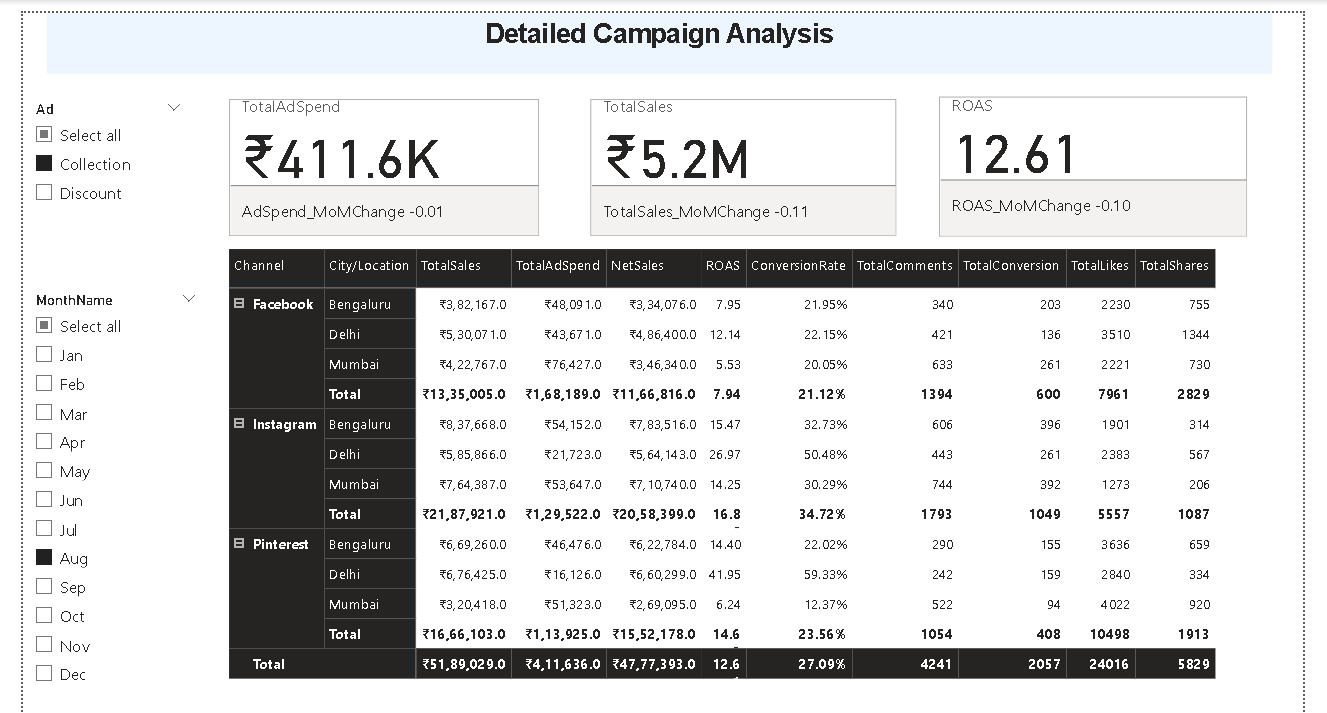

What the dashboard file says about the page in this screenshot:
{"tool":"powerbi","page":{"name":"Detailed Campaign Analysis","canvas":[1280,720],"ordinal":2},"visuals":[{"type":"pivotTable","fields":{"Rows":["Marketing Campaign - data (2).Channel","Marketing Campaign - data (2).City/Location"],"Values":["A_Measures.TotalSales","A_Measures.TotalAdSpend","A_Measures.NetSales","A_Measures.ROAS","A_Measures.ConversionRate","A_Measures.TotalComments","A_Measures.TotalConversion","A_Measures.TotalLikes","A_Measures.TotalShares"]},"box":[201.1,231.4,1048.3,473.4],"z":0},{"type":"slicer","fields":{"Values":["Calender.MonthName"]},"box":[0,273.4,184.8,431.6],"z":1000},{"type":"slicer","fields":{"Values":["Marketing Campaign - data (2).Ad"]},"box":[0,82.3,169.6,170.9],"z":2000},{"type":"cardVisual","fields":{"Data":["A_Measures.TotalAdSpend"]},"box":[201.1,81.9,320.4,147.7],"z":3000},{"type":"cardVisual","fields":{"Data":["A_Measures.TotalSales"]},"box":[562.4,81.9,316.8,147.7],"z":4000},{"type":"cardVisual","fields":{"Data":["A_Measures.ROAS"]},"box":[930.8,81.9,318.6,149.5],"z":5000},{"type":"textbox","box":[24.1,0,1225.3,60.8],"z":6000}]}

Visuals, with their boxes on the page's 1280x720 design canvas (x1, y1, x2, y2). These are canvas units, not pixel positions in the 1327x713 screenshot, which may show the page scaled, cropped or inside an application window:
pivotTable - Marketing Campaign - data (2).Channel x Marketing Campaign - data (2).City/Location: x1=201 y1=231 x2=1249 y2=705
slicer - Calender.MonthName: x1=0 y1=273 x2=185 y2=705
slicer - Marketing Campaign - data (2).Ad: x1=0 y1=82 x2=170 y2=253
cardVisual - A_Measures.TotalAdSpend: x1=201 y1=82 x2=522 y2=230
cardVisual - A_Measures.TotalSales: x1=562 y1=82 x2=879 y2=230
cardVisual - A_Measures.ROAS: x1=931 y1=82 x2=1249 y2=231
textbox: x1=24 y1=0 x2=1249 y2=61
